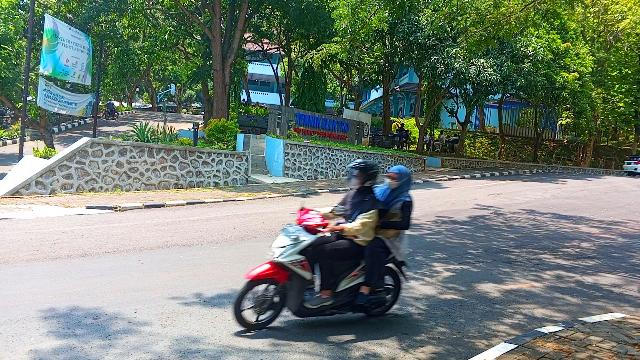helm: (347, 159, 380, 191)
motor: (234, 190, 411, 333)
non-helm: (386, 165, 413, 193)
